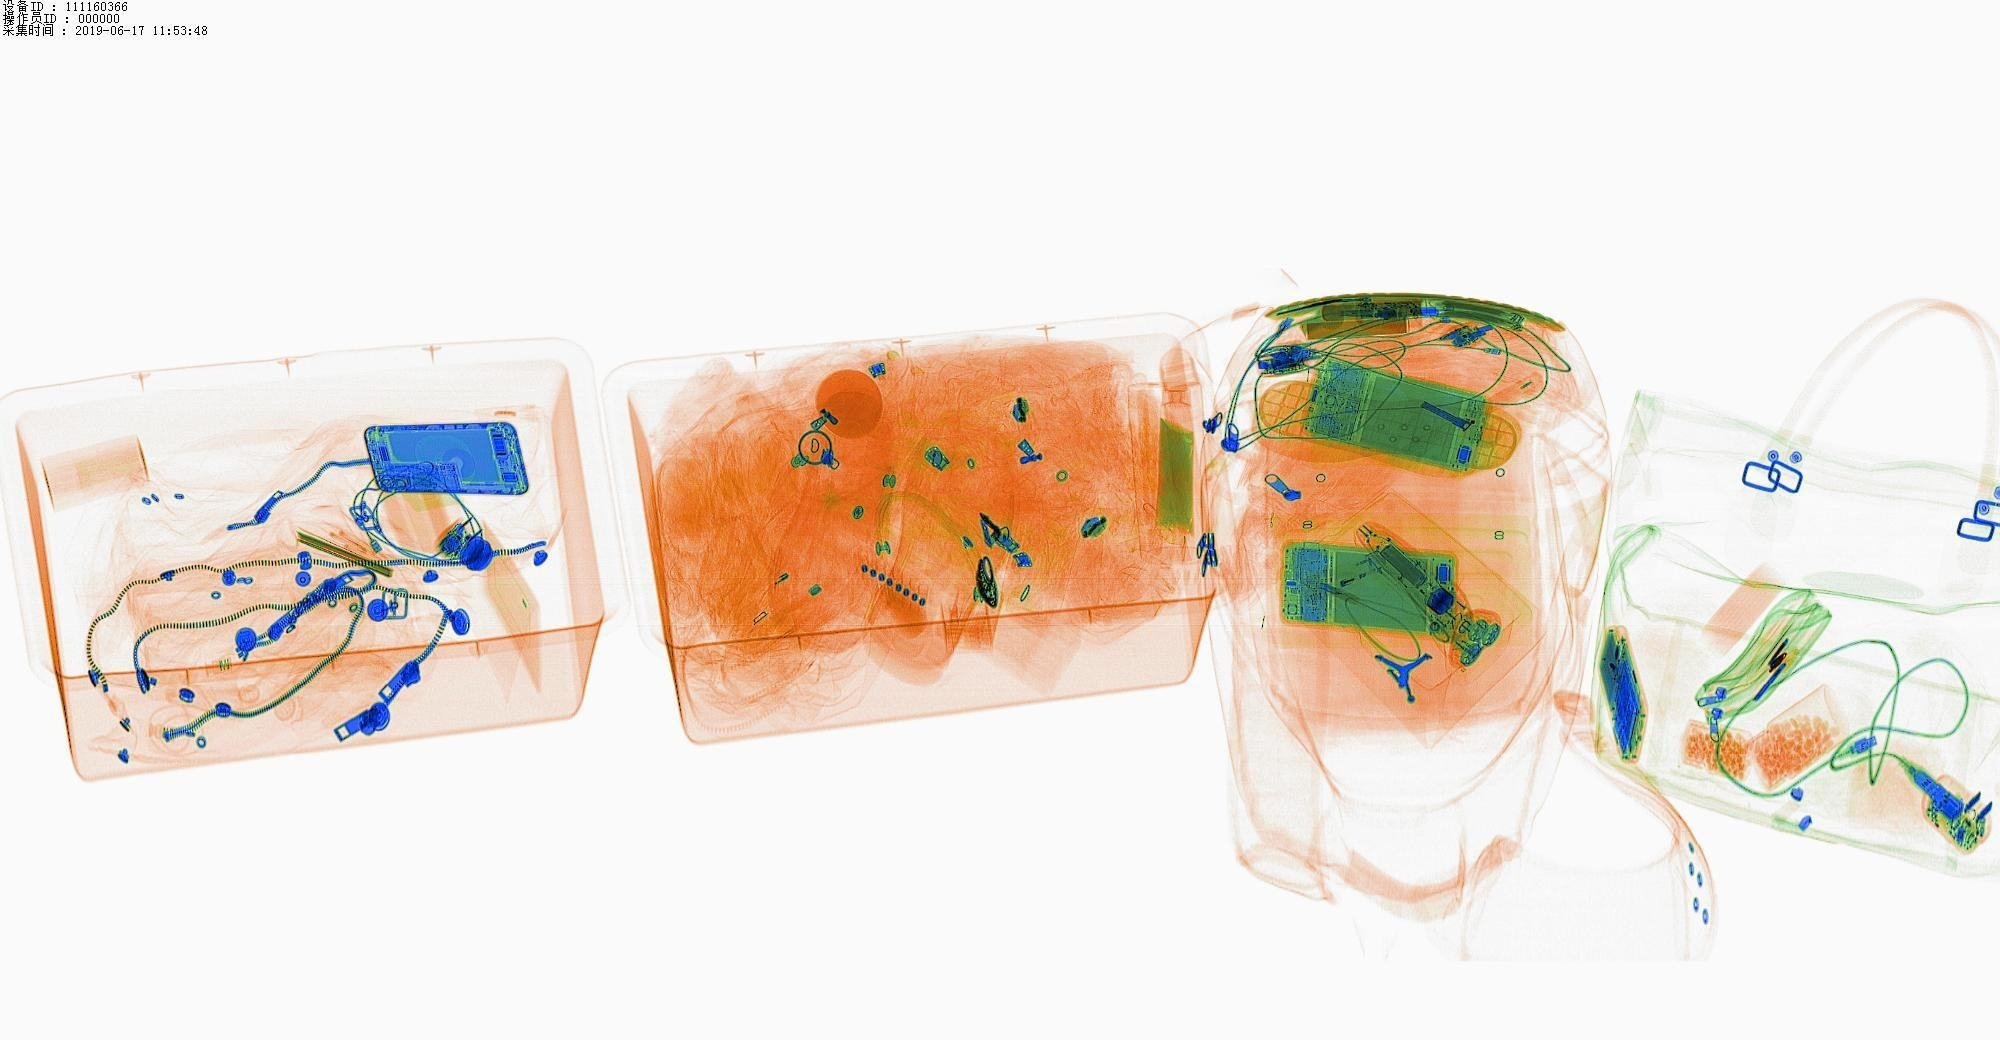NonmetallicFire: (1304, 539, 1407, 609)
